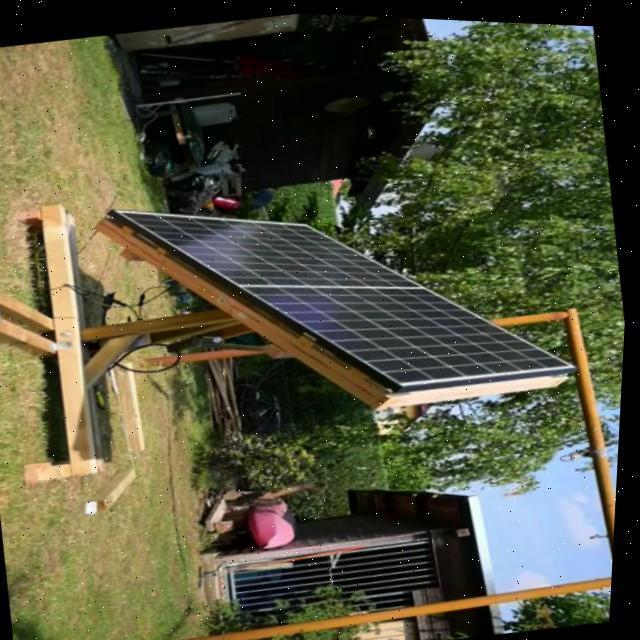Normal Solar Panel: (105, 138, 588, 436)
